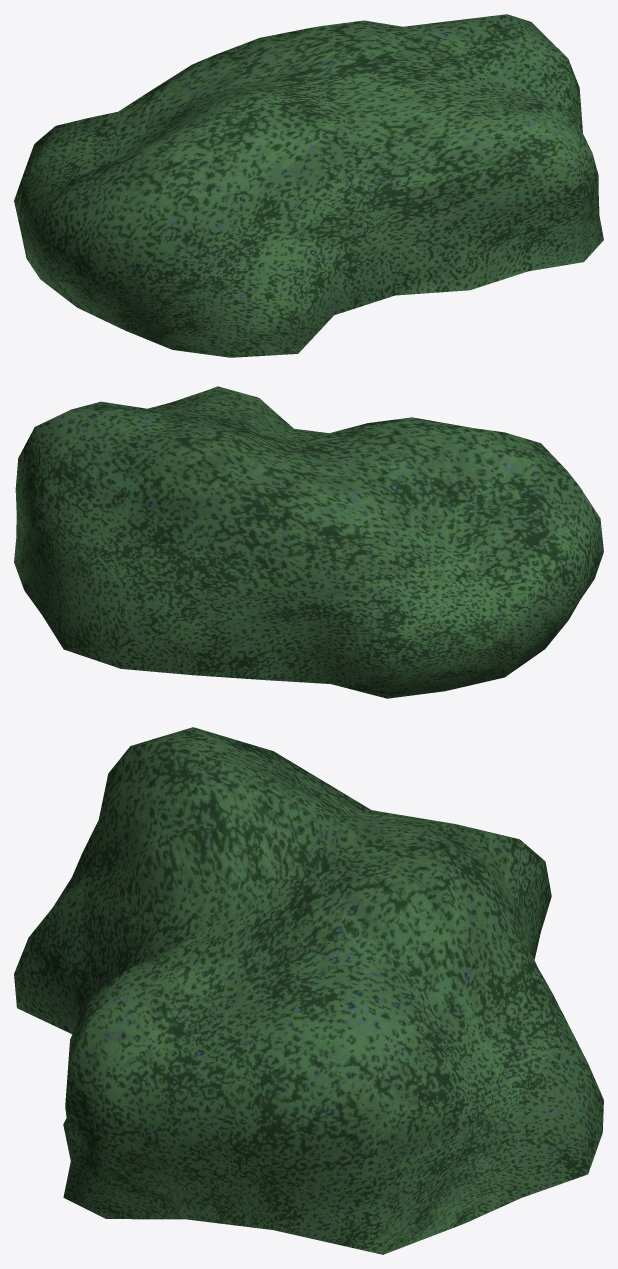
Rendered from 08-BLD.fbx.
3 views of the same model, one above another, from view 1: azimuth 30°, elevation 25°; view 2: azimuth 150°, elevation 25°; view 3: azimuth 270°, elevation 25° (orthographic). The views are drawn at different scales.
Visible parts, largest first — view 1: 08-BLD_LOD00; view 2: 08-BLD_LOD00; view 3: 08-BLD_LOD00.
Boxes of the visible parts, x1,y1,x2,y2 form: 08-BLD_LOD00: [14, 14, 603, 357]; 08-BLD_LOD00: [14, 386, 603, 698]; 08-BLD_LOD00: [14, 727, 603, 1254].
Size of what is drawn, in the model's own units: 207 by 67.99 by 147.
